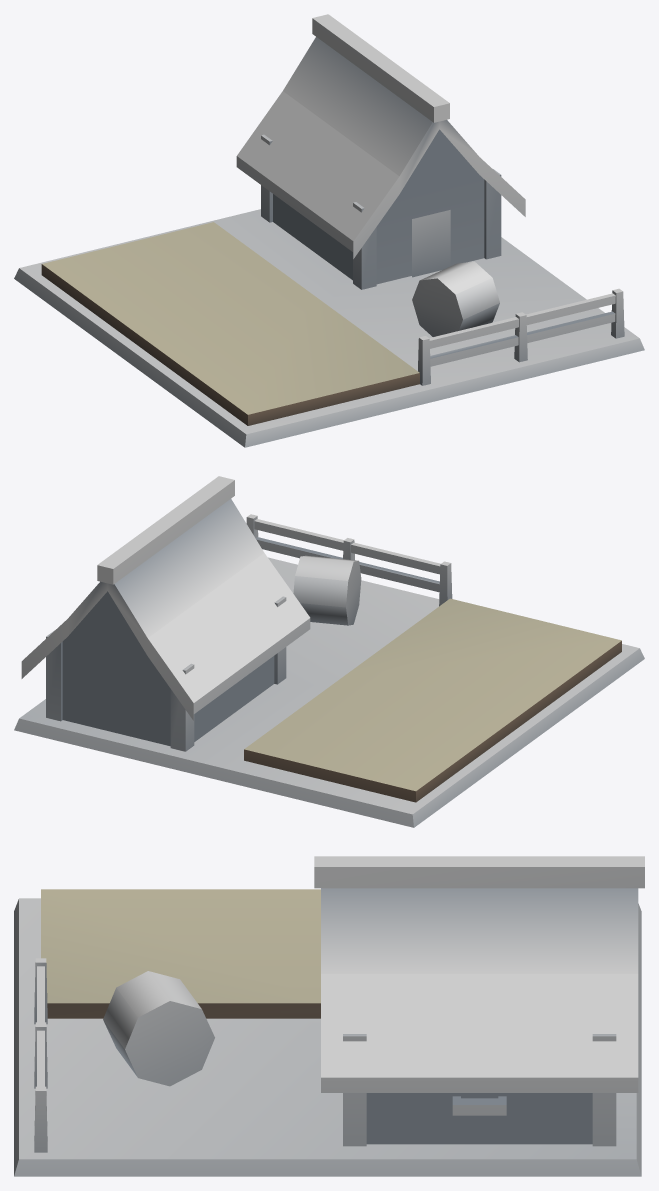
The model's file is farm_t1.glb.
The picture shows the model from 3 angles, top to bottom: view 1: azimuth 30°, elevation 25°; view 2: azimuth 150°, elevation 25°; view 3: azimuth 270°, elevation 25°; orthographic projection. The views are drawn at different scales.
Visible parts, largest first — view 1: farm_t1; view 2: farm_t1; view 3: farm_t1.
Part boxes in pixels (x1=…): farm_t1: x1=14, y1=14, x2=644, y2=447; farm_t1: x1=14, y1=476, x2=644, y2=827; farm_t1: x1=14, y1=856, x2=644, y2=1176.
Bounding box in the file's own units: 1.86 × 0.8294 × 1.87.
